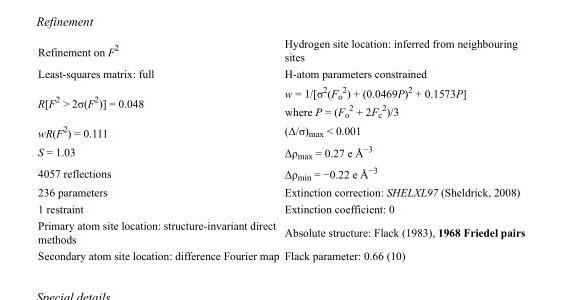table: (37, 36, 524, 261)
table column: (37, 36, 281, 261), (281, 36, 524, 261)
table row: (37, 81, 524, 121), (37, 216, 524, 246), (37, 36, 524, 64), (37, 141, 524, 162), (37, 162, 524, 183), (37, 121, 524, 141), (37, 64, 524, 81), (37, 183, 524, 200), (37, 200, 524, 216), (37, 246, 524, 261)
